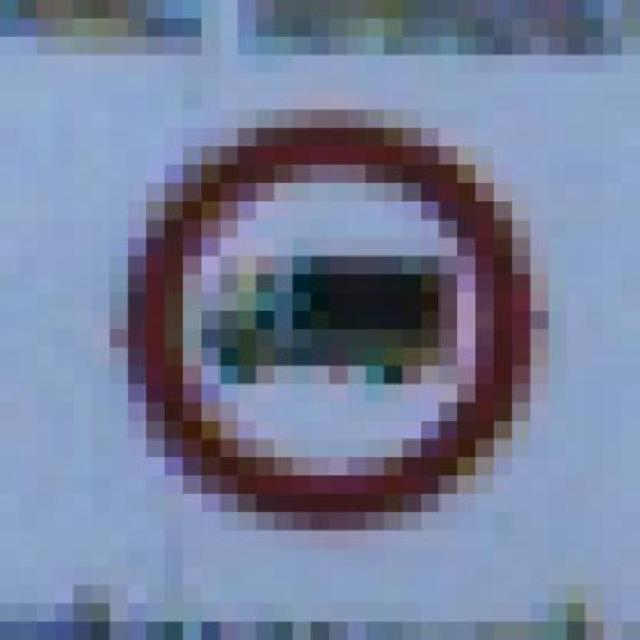Truck traffic is prohibited: (55, 92, 567, 586)
